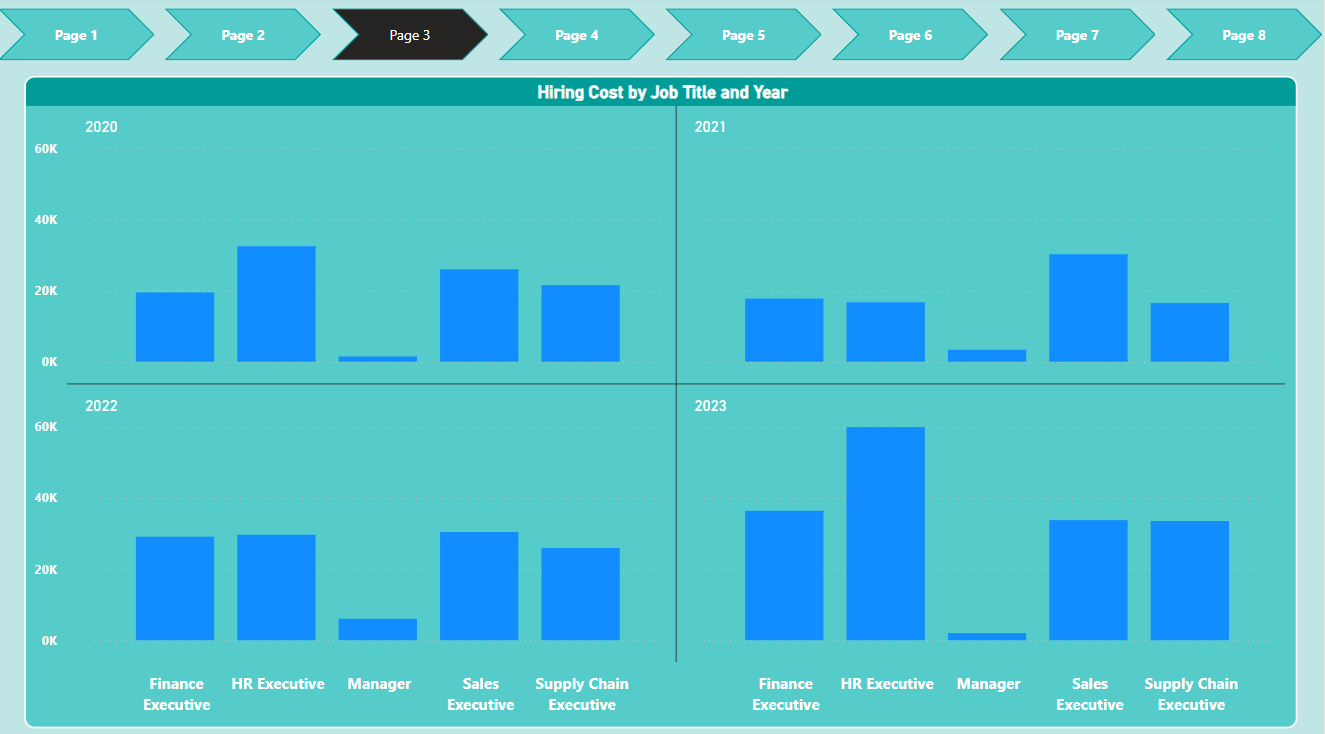

This screenshot's page, from the dashboard's own definition file:
{"tool":"powerbi","page":{"name":"Page 3","canvas":[1280,720],"ordinal":2},"visuals":[{"type":"clusteredColumnChart","title":"Hiring Cost by Job Title and Year","fields":{"Y":["Sum(Hiring Data.hiring_cost)"],"Category":["Employee.Job Title"],"Rows":["Hiring Data.hiring_date.Variation.Date Hierarchy.Year"]},"box":[25.7,77,1228.9,629.8],"z":0},{"type":"pageNavigator","box":[0,12.1,1280,50.7],"z":4000}]}

Visuals, with their boxes in screenshot pixels (x1, y1, x2, y2), scaled from the page's 1280x720 canvas onto the 1325x734 screenshot:
"Hiring Cost by Job Title and Year" clusteredColumnChart: [x1=27, y1=78, x2=1299, y2=721]
pageNavigator: [x1=0, y1=12, x2=1324, y2=64]
